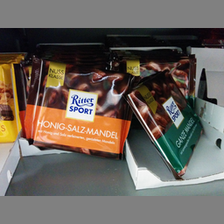chocolate: (24, 58, 132, 160), (127, 72, 203, 179)
